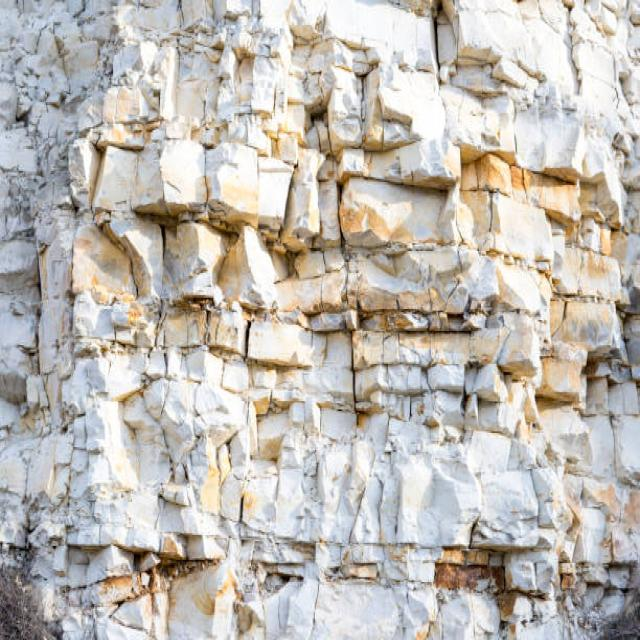Sedimentary: (4, 2, 637, 635)
